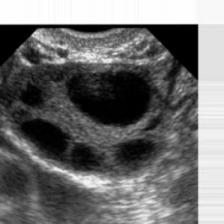pcos: (13, 45, 174, 186)
